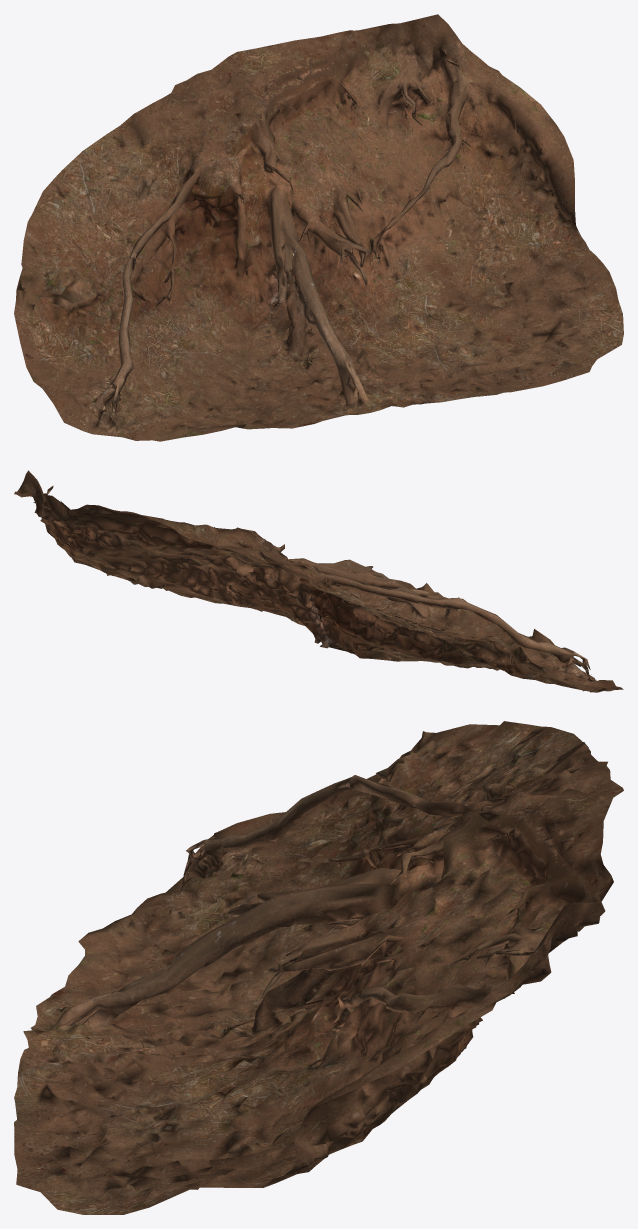
File: root_cluster_01.gltf
3 renders of one model, top to bottom at view 1: azimuth 30°, elevation 25°; view 2: azimuth 150°, elevation 25°; view 3: azimuth 270°, elevation 25°, orthographic. The views are drawn at different scales.
Parts seen in each view (by area): view 1: root_cluster_01; view 2: root_cluster_01; view 3: root_cluster_01.
Part boxes in pixels (x1,y1,x2,y2): root_cluster_01: (14,14,623,441); root_cluster_01: (14,470,623,692); root_cluster_01: (14,721,623,1214).
Size of the model in its own units: 4.12 by 1.51 by 2.68.
1 material, 1 textured.
